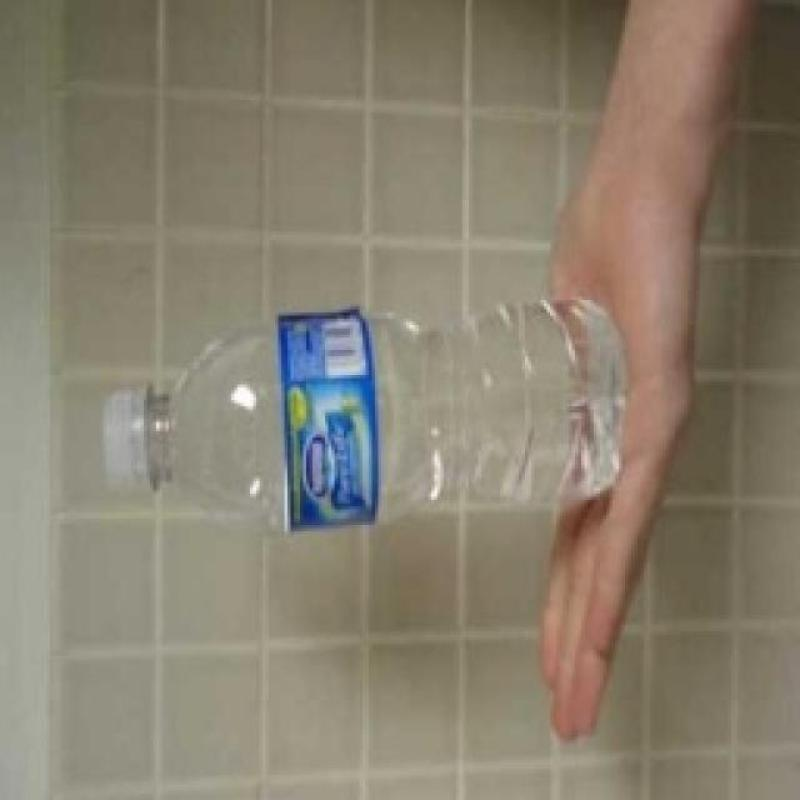botella: (101, 299, 630, 536)
